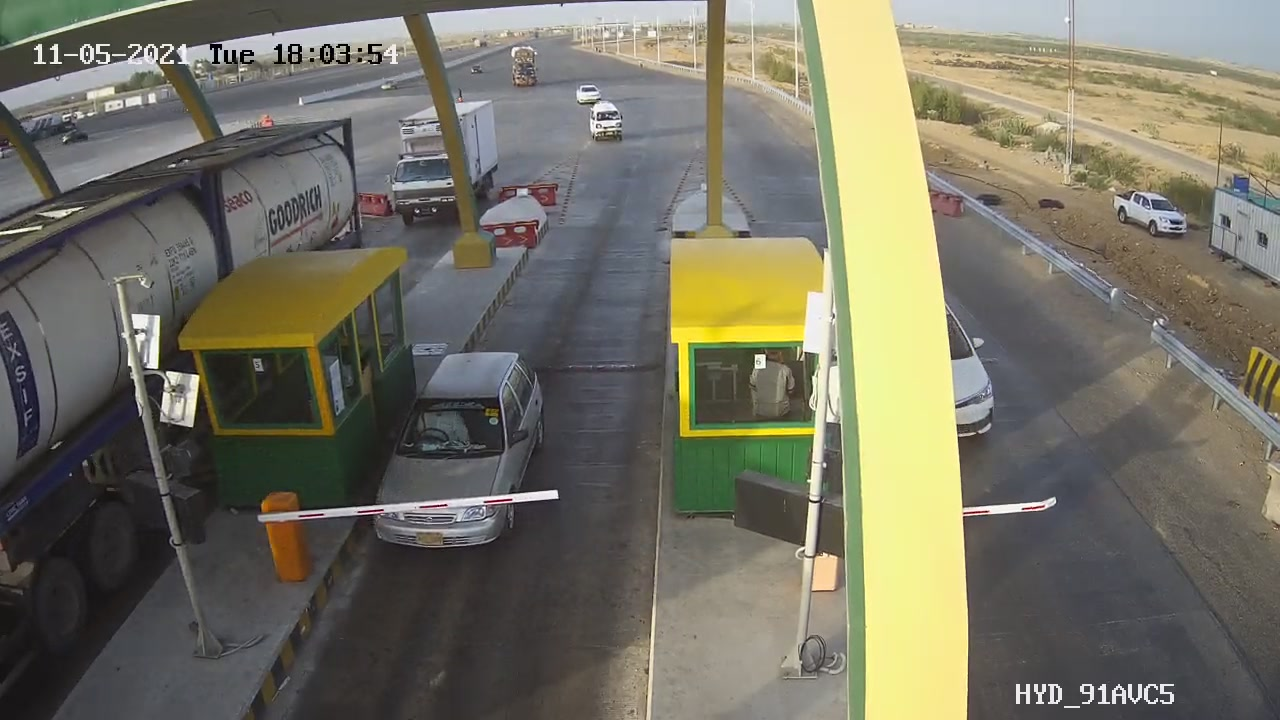F1: (351, 336, 585, 567)
